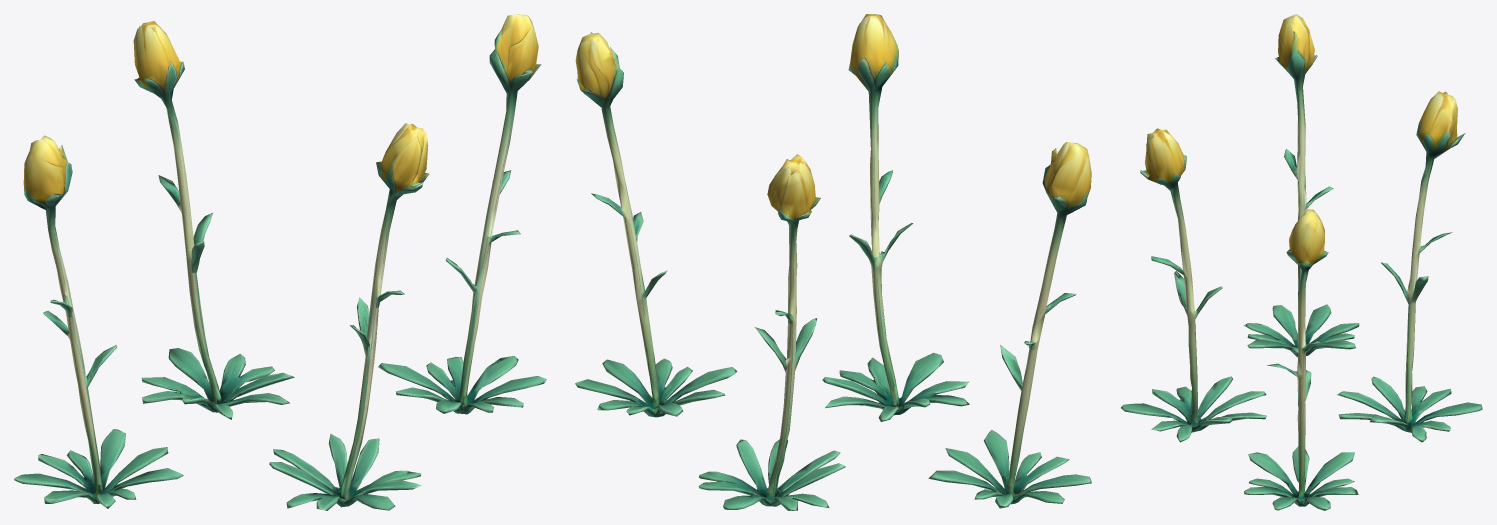
3 renders of one model, left to right at view 1: azimuth 30°, elevation 25°; view 2: azimuth 150°, elevation 25°; view 3: azimuth 270°, elevation 25°, orthographic. The views are drawn at different scales.
Parts seen in each view (by area): view 1: Mesh_0; view 2: Mesh_0; view 3: Mesh_0.
Boxes of the visible parts, x1,y1,x2,y2 form: Mesh_0: [14, 14, 546, 510]; Mesh_0: [575, 14, 1091, 510]; Mesh_0: [1121, 14, 1482, 510].
Size of the model in its own units: 1.91 by 1.34 by 1.38.
1 material, 1 textured.
